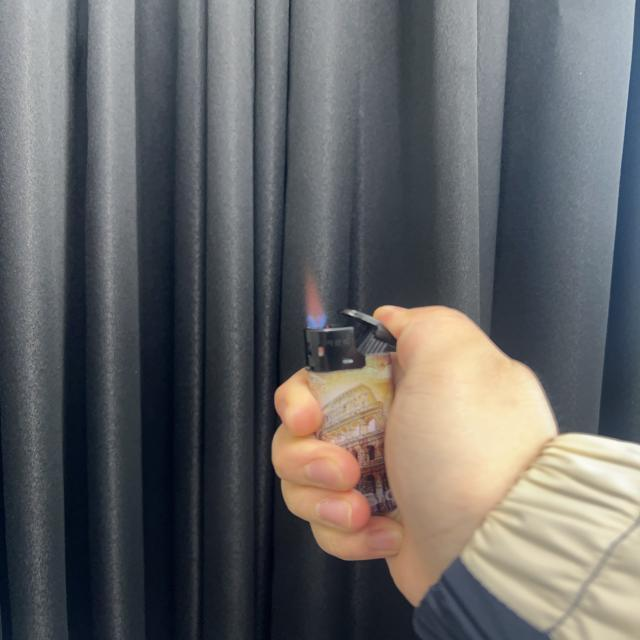fire: (302, 268, 328, 329)
